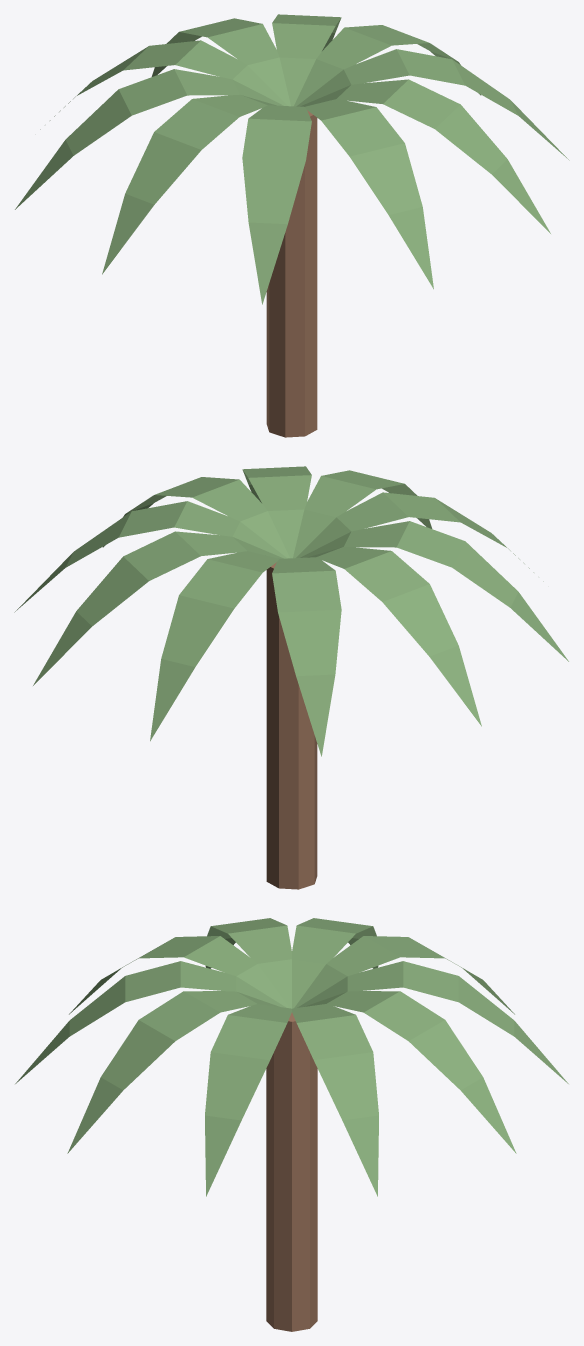
The model's file is fanPalm.obj.
3 views of the same model, one above another, from view 1: azimuth 30°, elevation 25°; view 2: azimuth 150°, elevation 25°; view 3: azimuth 270°, elevation 25° (orthographic). The views are drawn at different scales.
Visible parts, largest first — view 1: fanPalm; view 2: fanPalm; view 3: fanPalm.
Boxes of the visible parts, x1,y1,x2,y2 form: fanPalm: [15, 14, 569, 437]; fanPalm: [14, 466, 568, 889]; fanPalm: [15, 918, 568, 1331].
Size of the model in its own units: 6.18 by 4.47 by 6.5.
